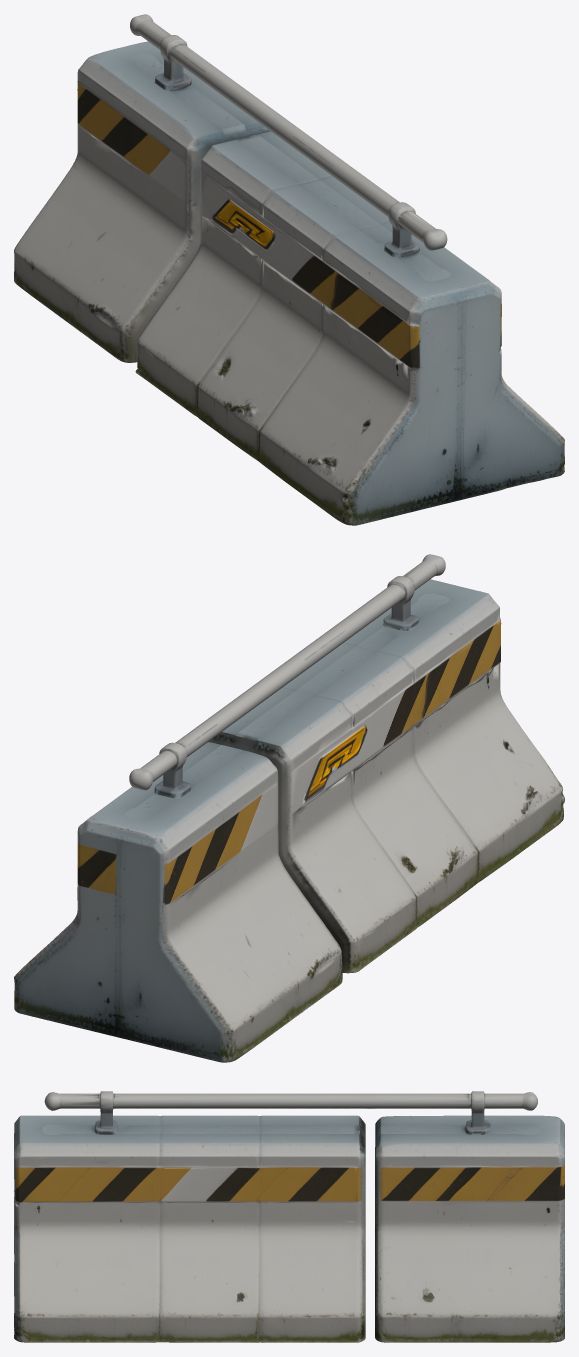
The model's file is storm_coast_concrete_barrier_hunyuan.glb.
3 views of the same model, one above another, from view 1: azimuth 30°, elevation 25°; view 2: azimuth 150°, elevation 25°; view 3: azimuth 270°, elevation 25° (orthographic). The views are drawn at different scales.
Parts seen in each view (by area): view 1: node_0; view 2: node_0; view 3: node_0.
Part boxes in pixels (bbox=[...]): node_0: bbox=[14, 14, 564, 525]; node_0: bbox=[14, 554, 564, 1062]; node_0: bbox=[14, 1091, 564, 1342].
Size of the model in its own units: 0.401 by 0.4367 by 1.06.
Materials: 1 (1 with a texture image).
